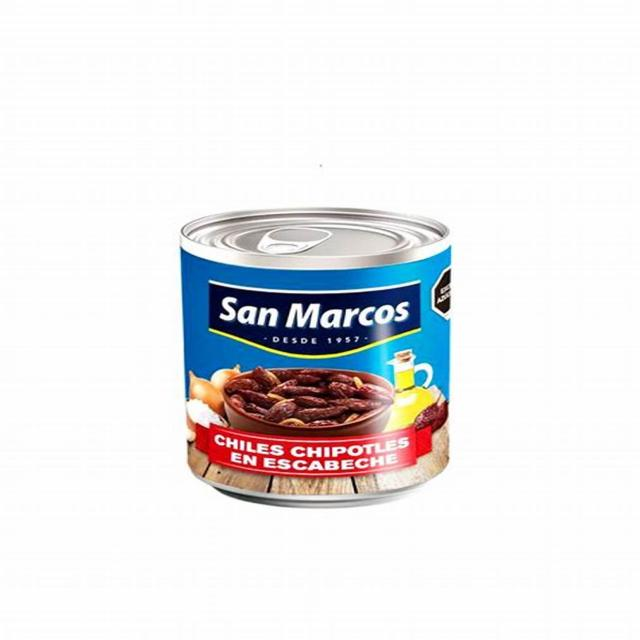Lata: (169, 208, 460, 512)
